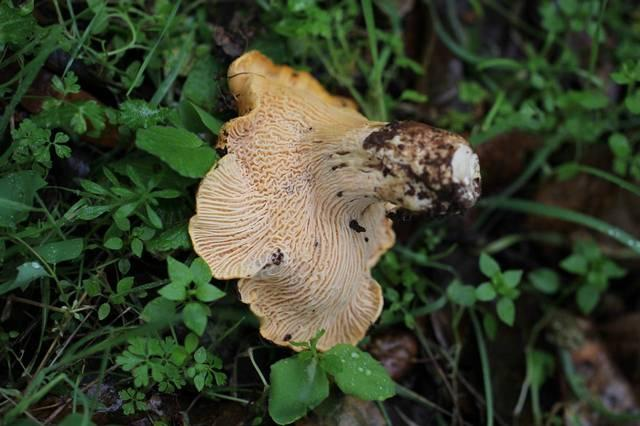edible_mushroom: (187, 48, 482, 353)
